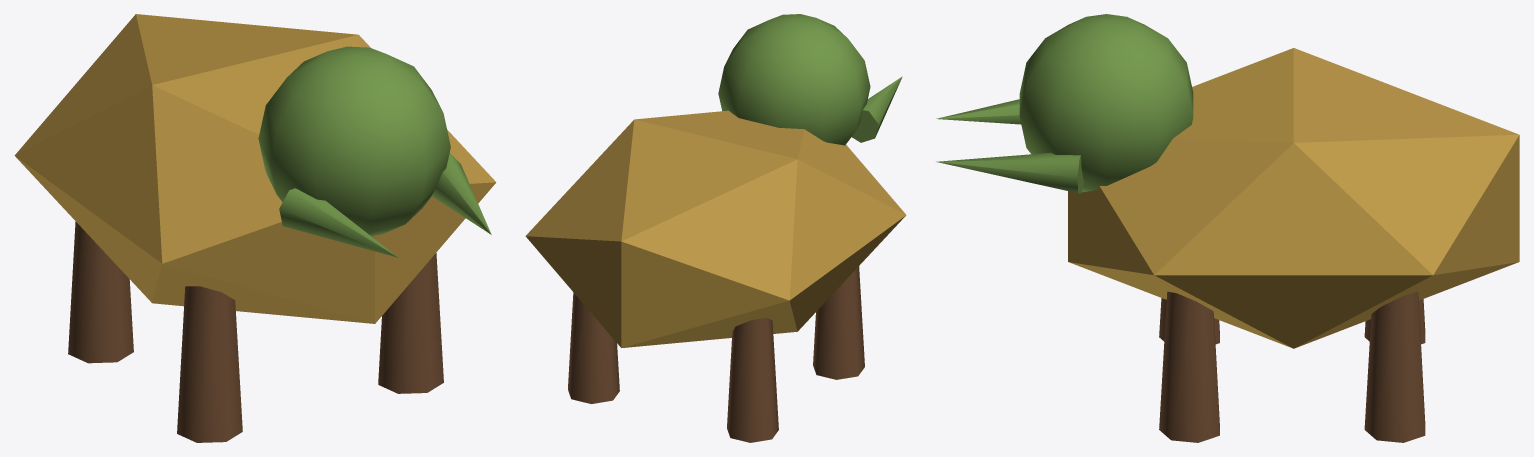
File: orchard_boar.glb
The picture shows the model from 3 angles, left to right: view 1: azimuth 30°, elevation 25°; view 2: azimuth 150°, elevation 25°; view 3: azimuth 270°, elevation 25°; orthographic projection. The views are drawn at different scales.
Visible parts, largest first — view 1: body_core, head_core, leg_-1_1, leg_-1_-1, leg_1_1, tusk_-1, tusk_1; view 2: body_core, head_core, leg_-1_-1, leg_-1_1, leg_1_-1, tusk_-1; view 3: body_core, head_core, leg_1_1, leg_1_-1, tusk_1, tusk_-1.
Part boxes in pixels (bbox=[...]): body_core: bbox=[14, 14, 496, 323]; head_core: bbox=[258, 46, 450, 236]; leg_-1_1: bbox=[177, 286, 242, 442]; leg_-1_-1: bbox=[68, 221, 133, 363]; leg_1_1: bbox=[378, 253, 443, 393]; tusk_-1: bbox=[279, 188, 398, 257]; tusk_1: bbox=[432, 153, 491, 234]; body_core: bbox=[525, 110, 906, 347]; head_core: bbox=[718, 14, 870, 145]; leg_-1_-1: bbox=[727, 317, 778, 442]; leg_-1_1: bbox=[813, 266, 864, 379]; leg_1_-1: bbox=[568, 292, 619, 403]; tusk_-1: bbox=[852, 76, 902, 142]; body_core: bbox=[1068, 48, 1519, 348]; head_core: bbox=[1019, 14, 1193, 192]; leg_1_1: bbox=[1159, 291, 1219, 442]; leg_1_-1: bbox=[1364, 291, 1425, 442]; tusk_1: bbox=[936, 152, 1083, 193]; tusk_-1: bbox=[936, 99, 1021, 124].
Size of what is drawn, in the model's own units: 1.59 by 1.75 by 2.56.
